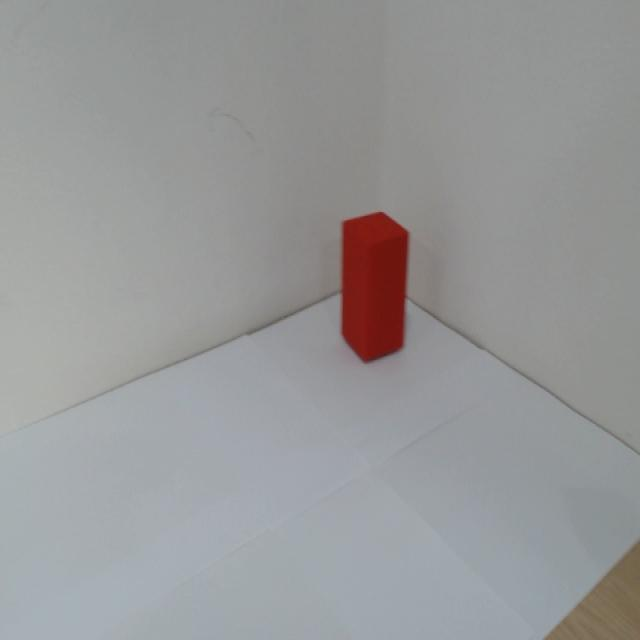cube: (333, 206, 413, 365)
